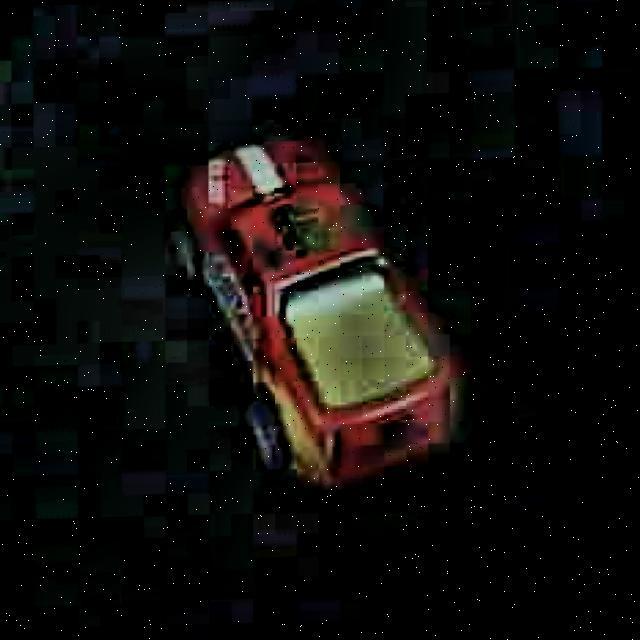car: (157, 114, 480, 511)
